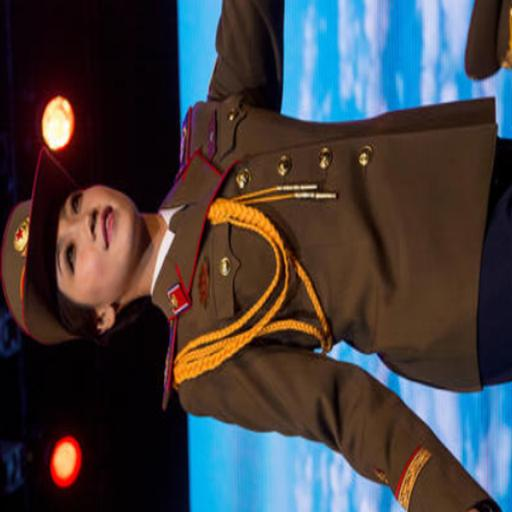north army: (2, 27, 512, 512)
